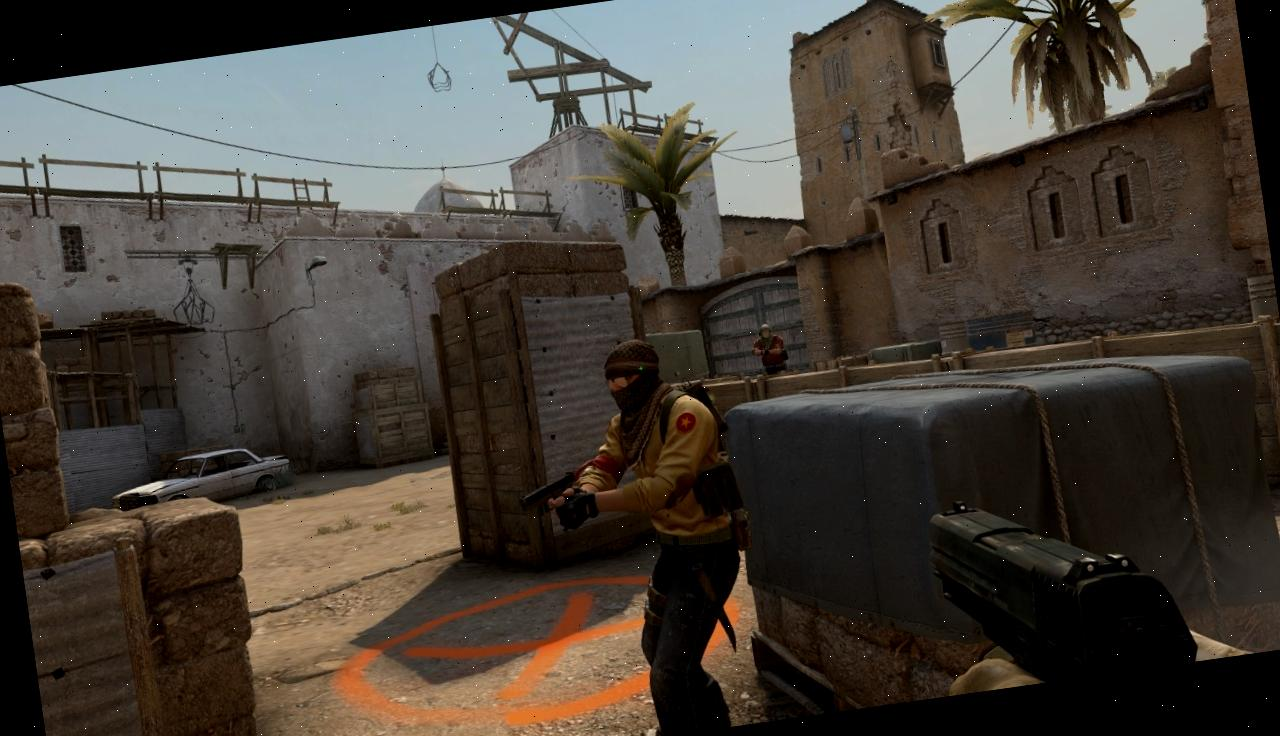pistol: (919, 462, 1258, 696)
tt: (534, 328, 763, 736), (749, 322, 789, 379)
tthead: (600, 335, 664, 410), (758, 324, 772, 340)
